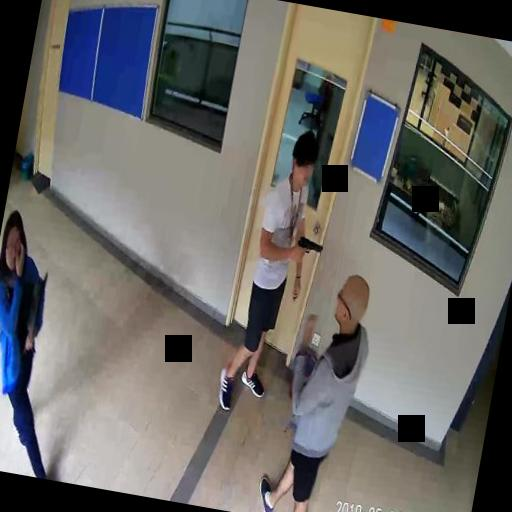Handgun: (292, 232, 324, 265)
